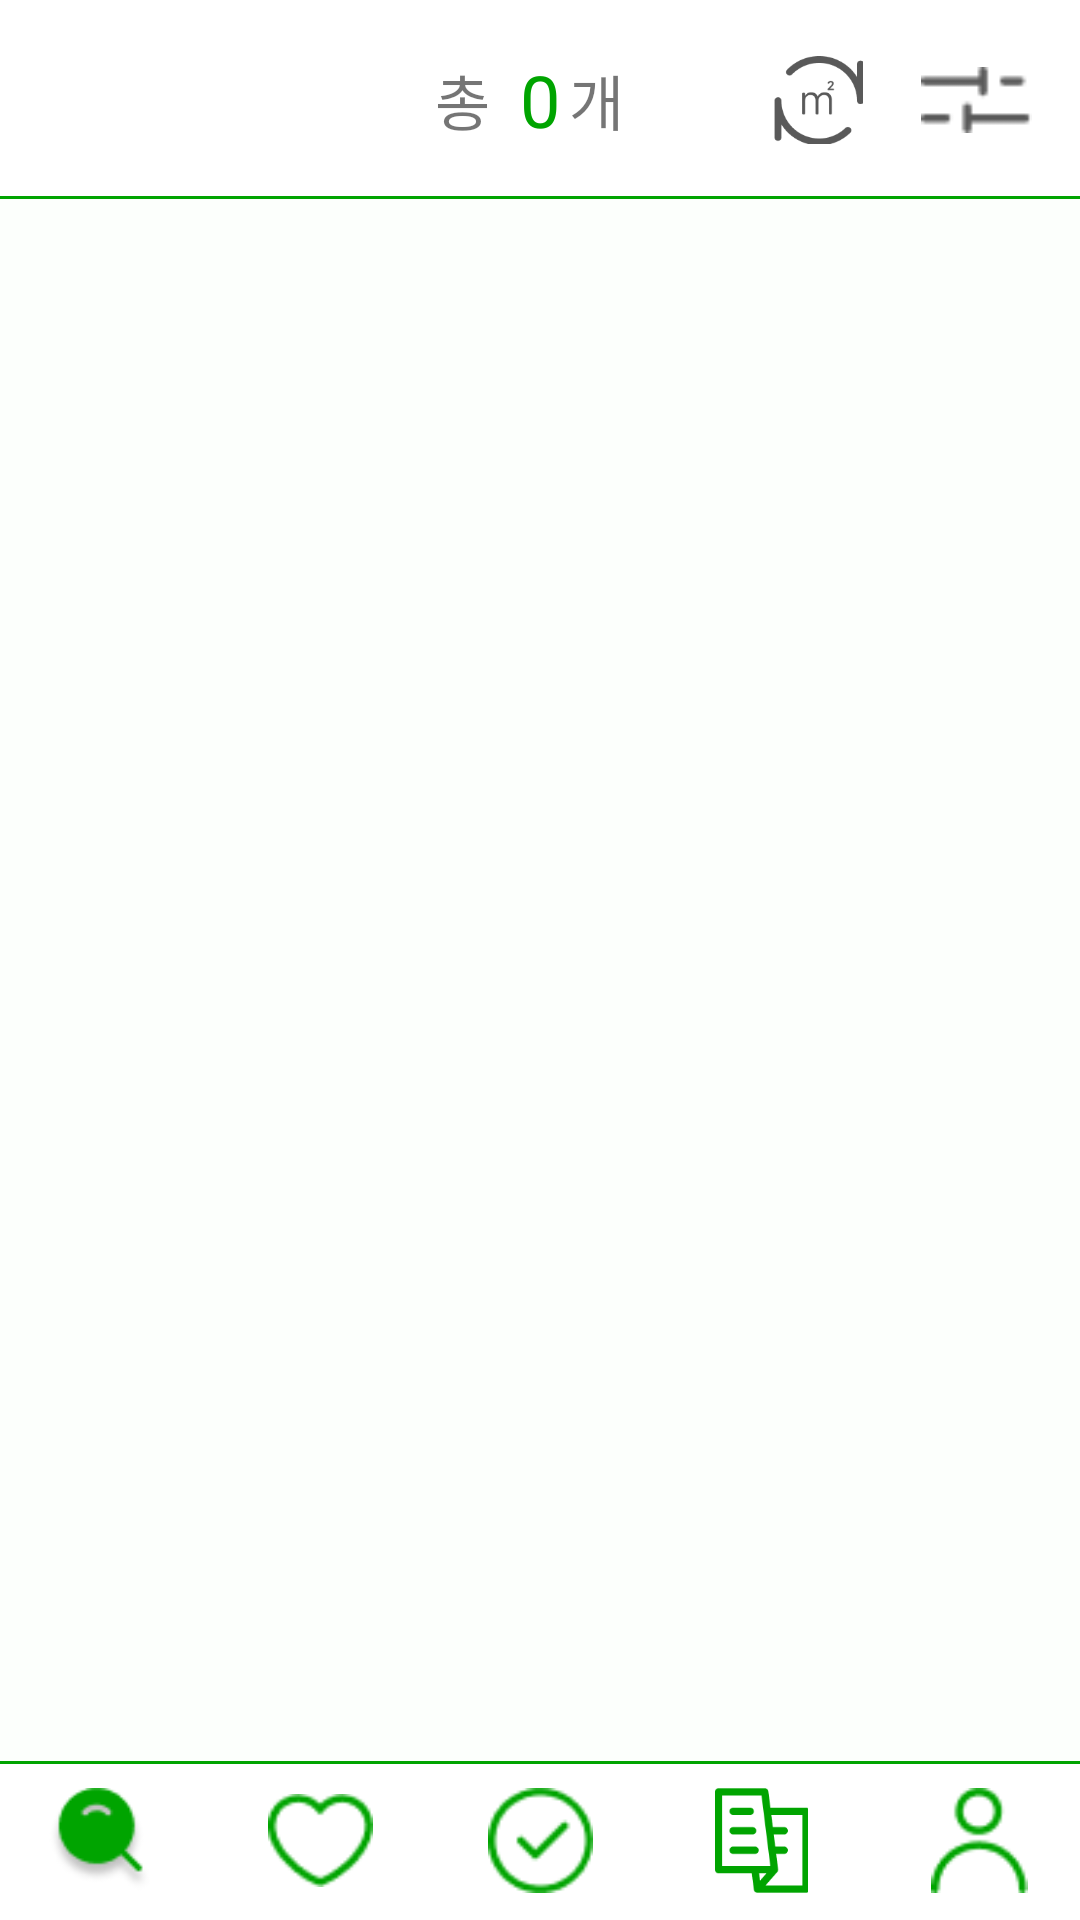

Icons on this 1080w x 1920h Android screen, each with its box as (x1, y1, x2, y2):
filter: (921, 67, 1030, 133)
offcheck: (488, 1788, 593, 1893)
offheart: (268, 1794, 373, 1887)
offmagazine: (715, 1788, 808, 1893)
offprofile: (931, 1788, 1028, 1893)
onsearch: (58, 1788, 143, 1878)
